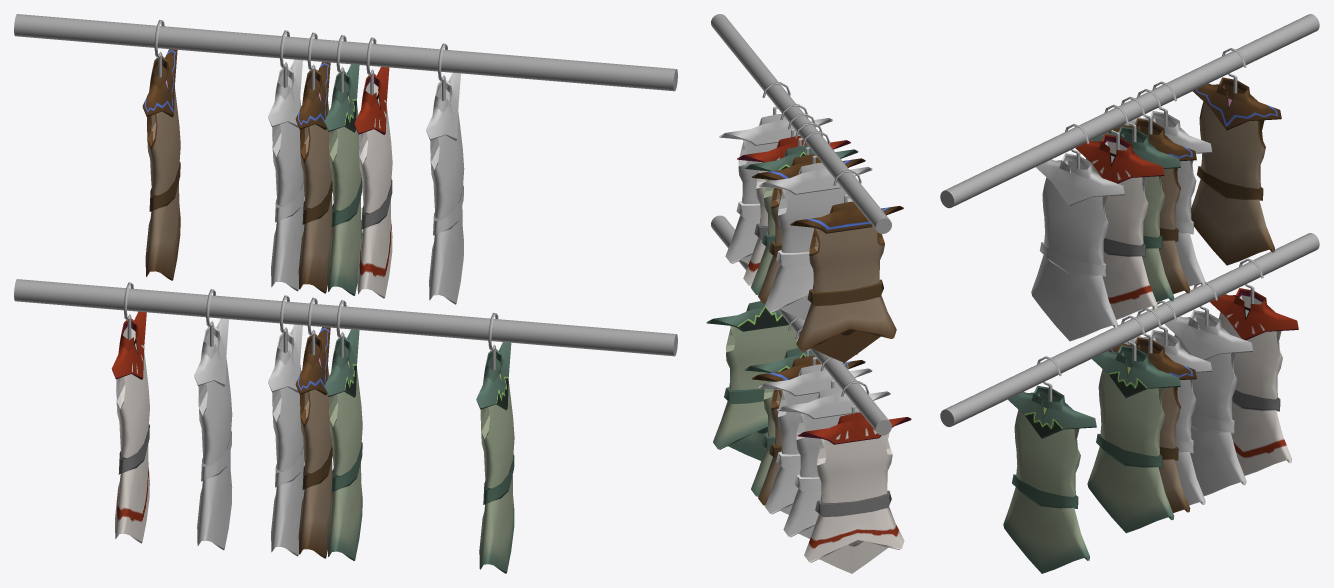
The model's file is Klax_Closet_01.fbx.
3 views of the same model, side by side, from view 1: azimuth 30°, elevation 25°; view 2: azimuth 150°, elevation 25°; view 3: azimuth 270°, elevation 25° (orthographic). The views are drawn at different scales.
Parts seen in each view (by area): view 1: Klax_Closet_01; view 2: Klax_Closet_01; view 3: Klax_Closet_01.
Boxes of the visible parts, box(x1,y1,x2,y2) form: Klax_Closet_01: box(14, 14, 677, 573); Klax_Closet_01: box(706, 14, 911, 573); Klax_Closet_01: box(940, 14, 1319, 573).
Size of the model in its own units: 3.33 by 3.68 by 2.93.
